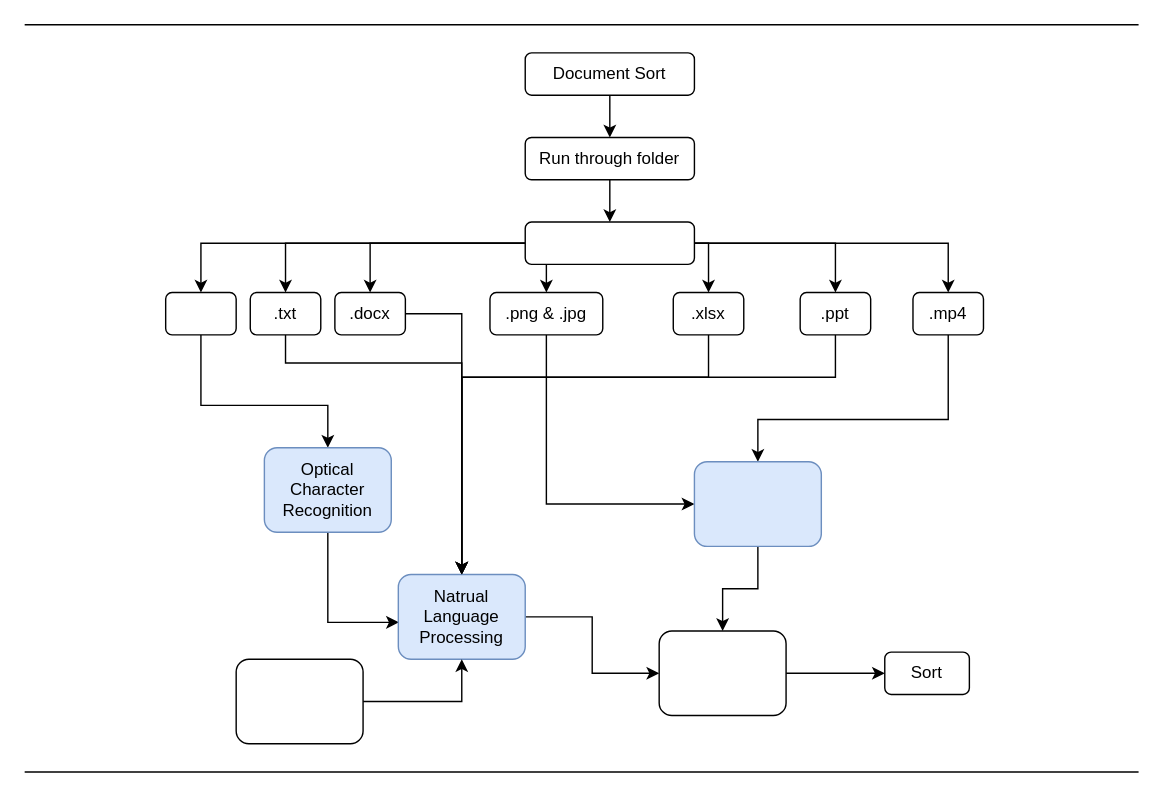
Image size: 1165x798. Some labels were removed from this diagram. The shapes that lost their labels are listed below. From the top down, each one's centre as x and y in pixels, then its label:
At point 609,242: "Read File".
At point 200,313: ".pdf".
At point 757,503: "Computer Vision".
At point 722,673: "Tags".
At point 299,701: "Formula's Decipher".
